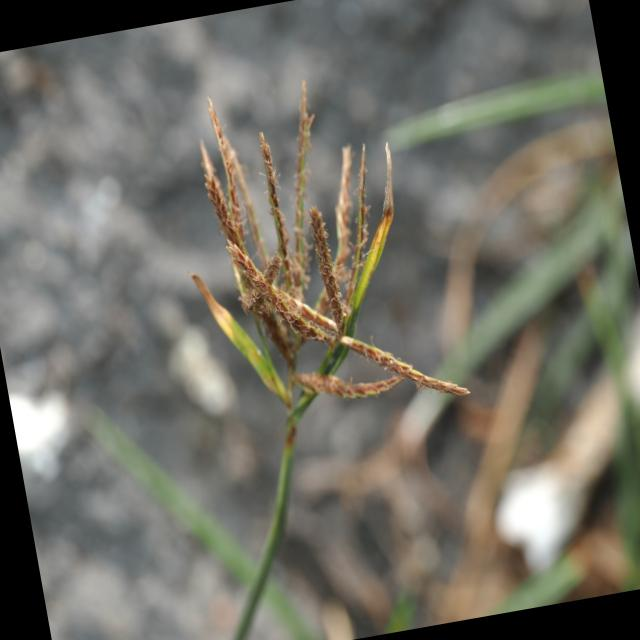cyperus: (156, 46, 481, 458)
